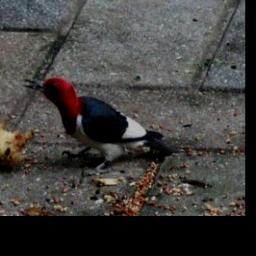Woodpecker: (16, 71, 183, 181)
